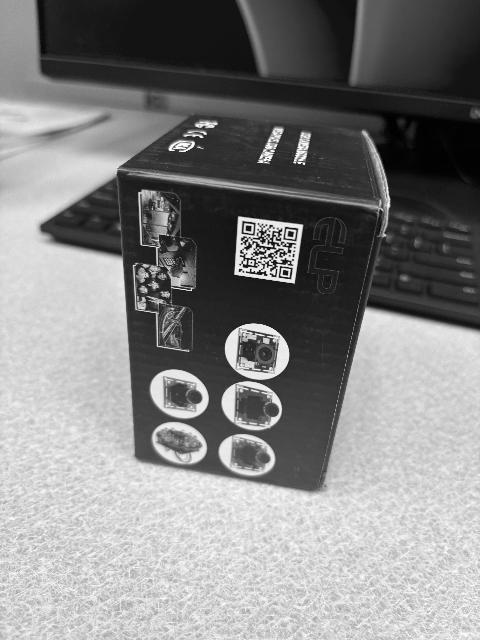CameraBox2: (113, 115, 390, 495)
